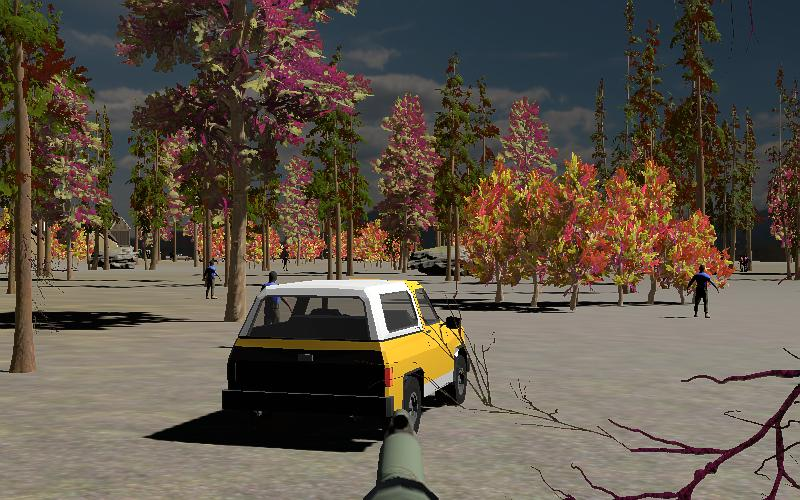Human: (687, 263, 719, 318), (257, 270, 284, 321), (201, 258, 221, 301)
car: (222, 278, 471, 429)
